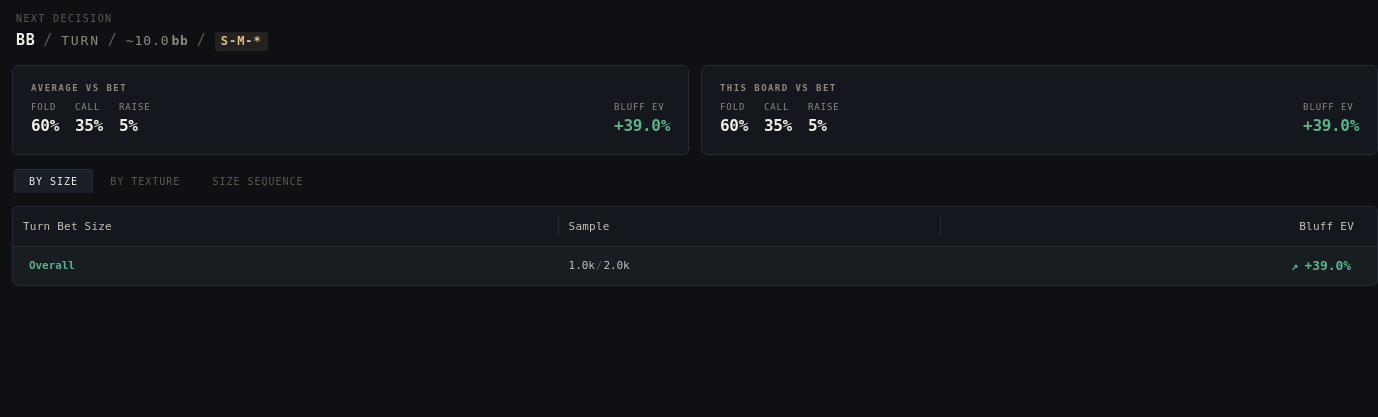
it: ResultsPane — size-sequence filter › badges the best bluff and best value sizes among shown rows
What coordinates should you click on to do the following:
click the button "Size sequence"
I would click on:
 (258, 181)
Its box is [197, 169, 319, 193].
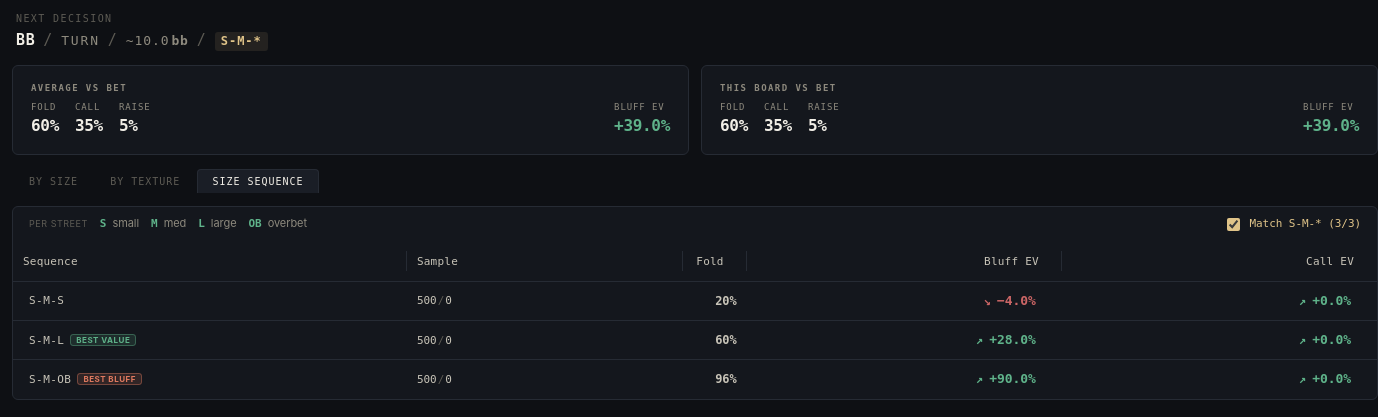
Result: the text "best bluff" is shown at [77, 373, 142, 385]
Result: the text "best value" is shown at [70, 334, 136, 346]
